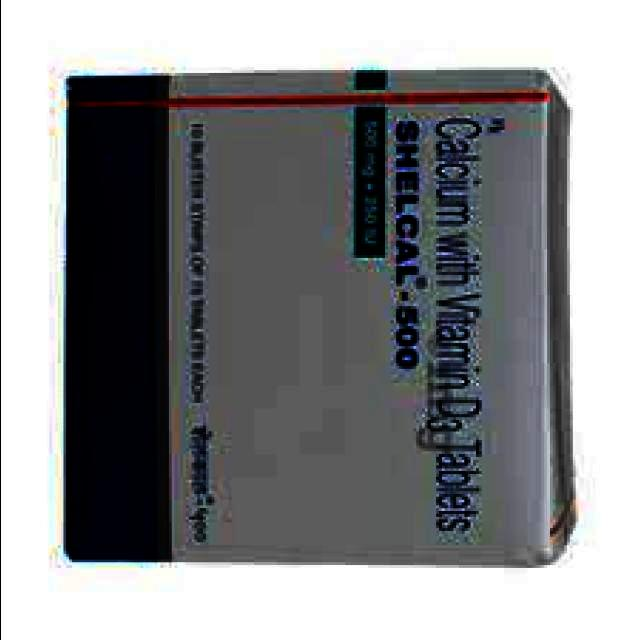authentic: (43, 58, 580, 574)
